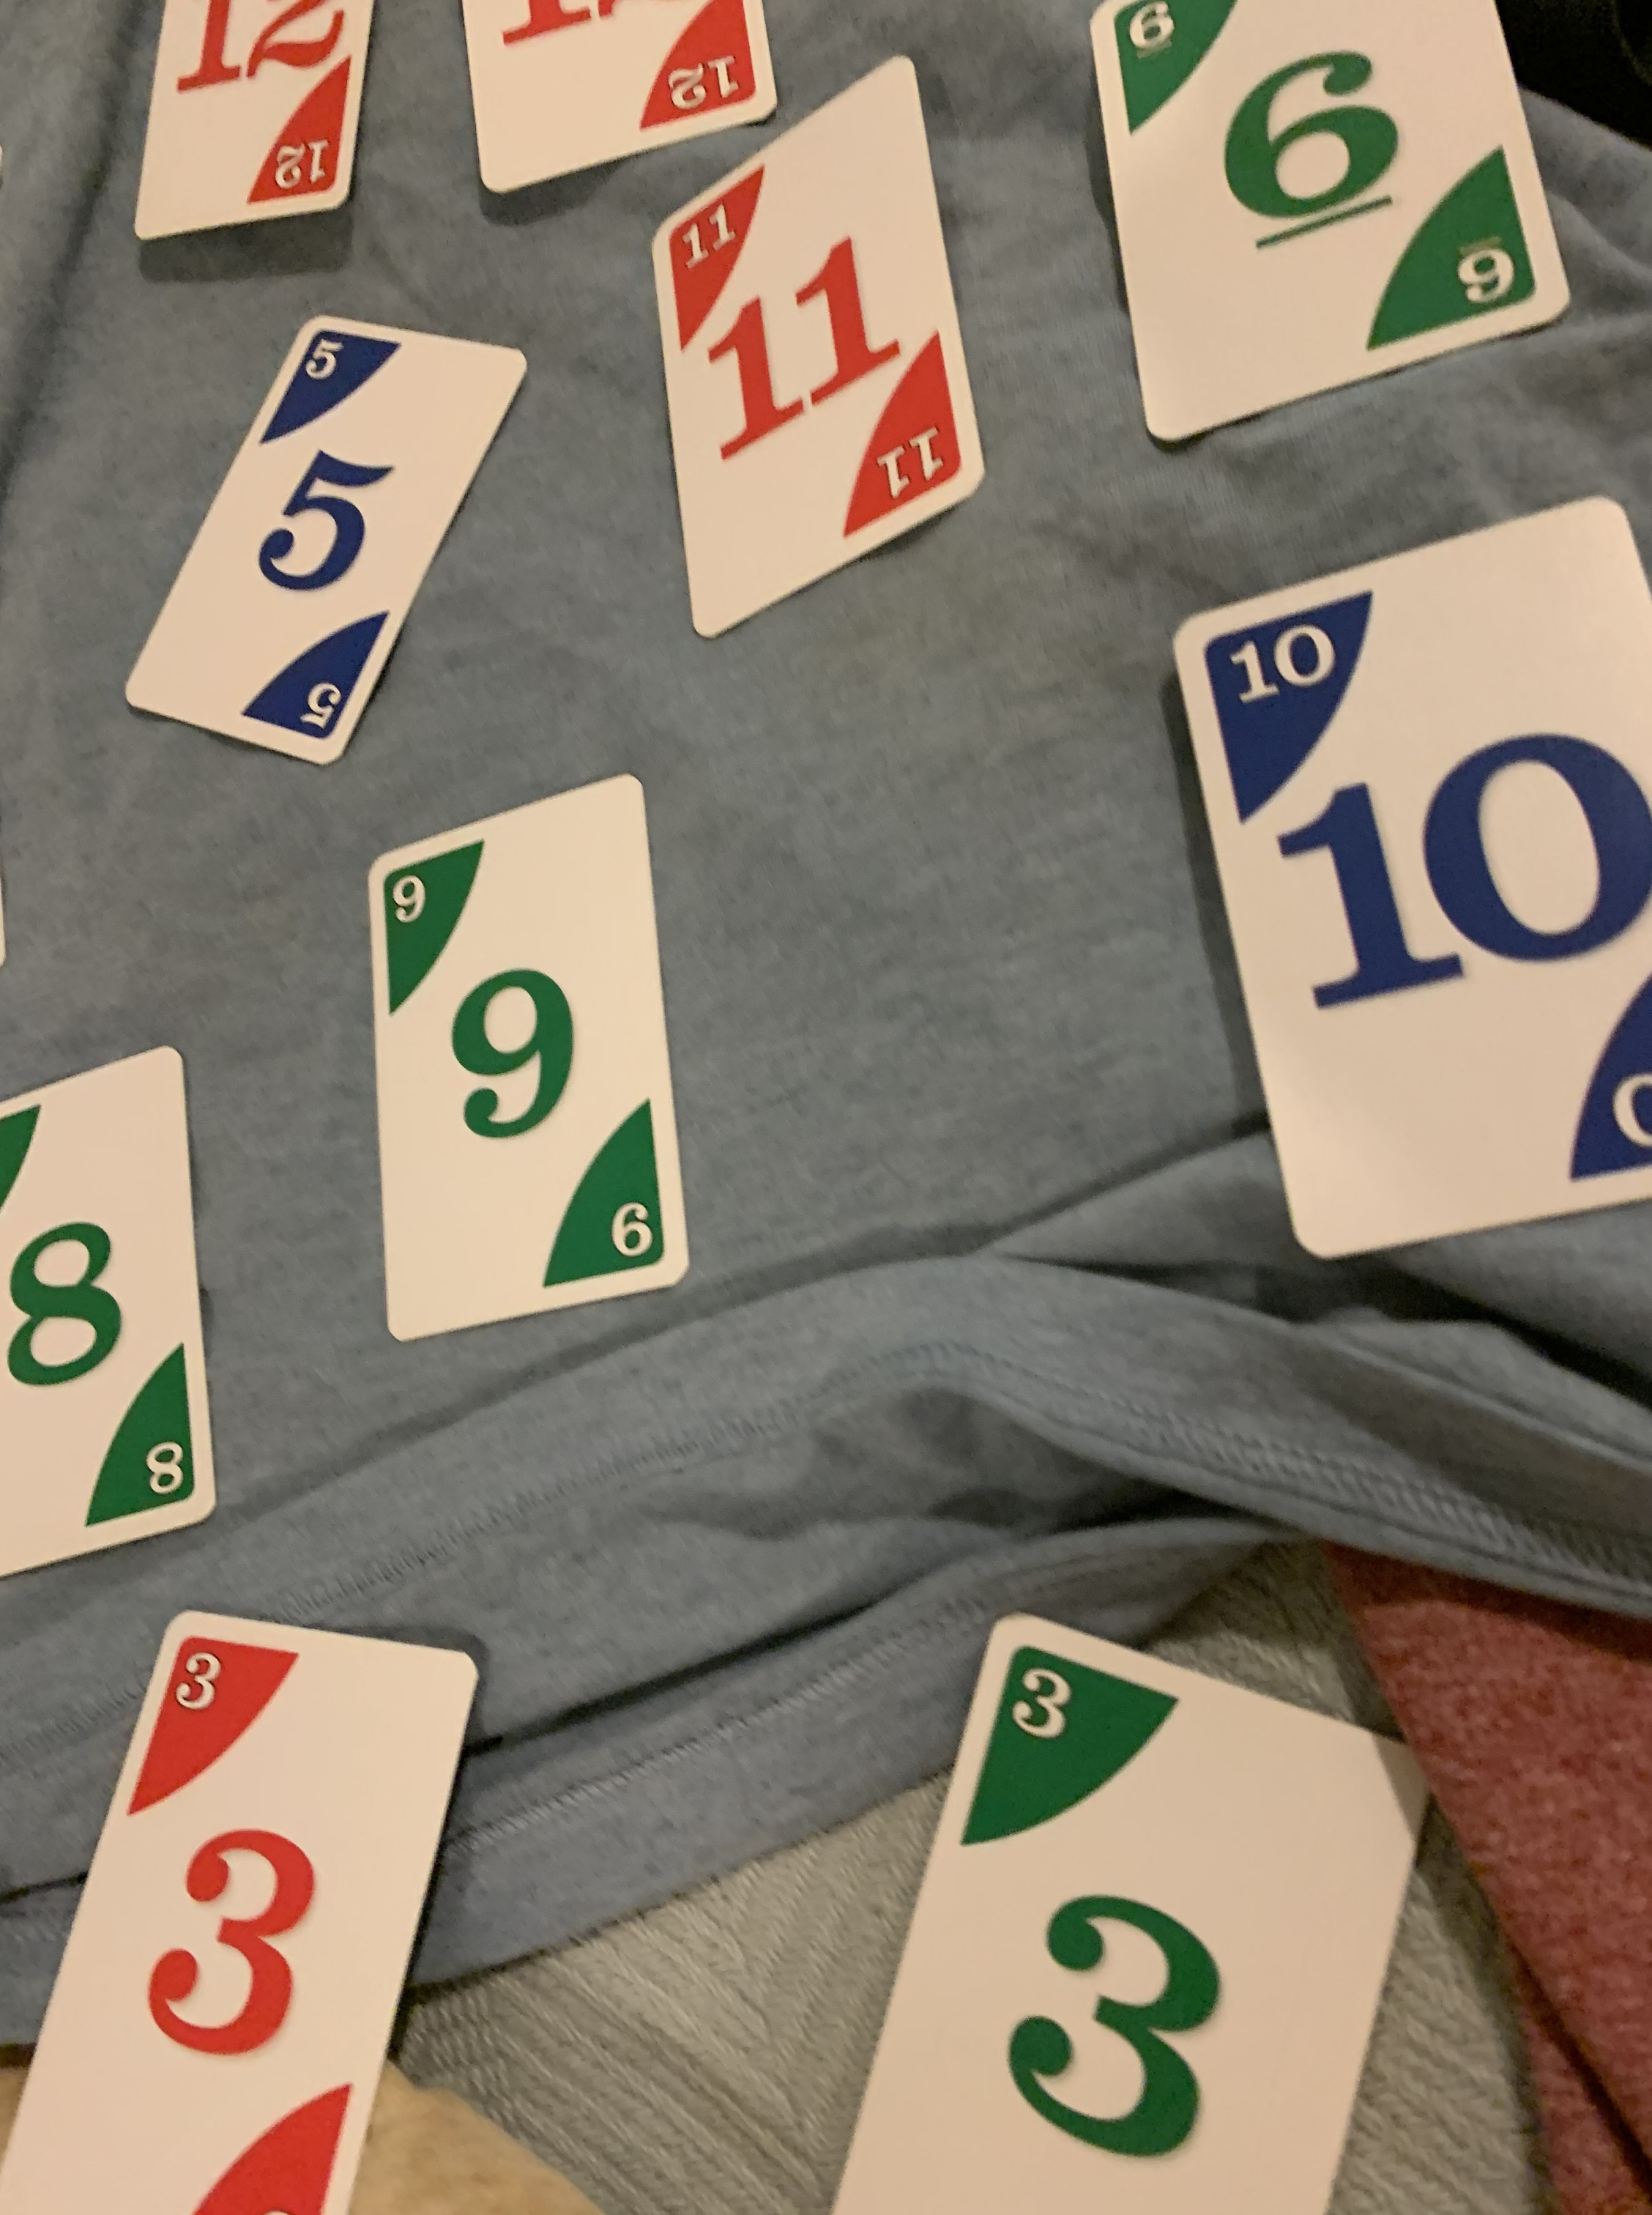eight: (0, 1028, 239, 1554)
eleven: (625, 47, 994, 647)
five: (115, 307, 536, 772)
nine: (354, 766, 698, 1342)
six: (1079, 0, 1600, 455)
ten: (1157, 488, 1652, 1278)
three: (793, 1600, 1445, 2215), (14, 1581, 496, 2215)
